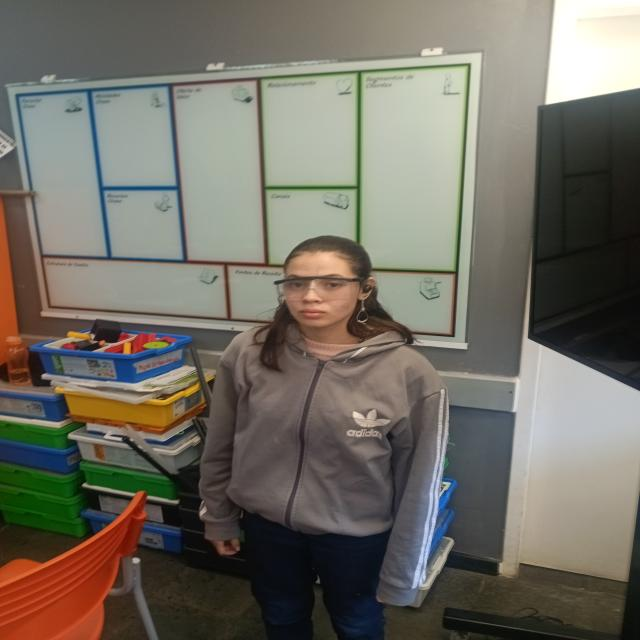oculos-epi: (273, 277, 363, 301)
